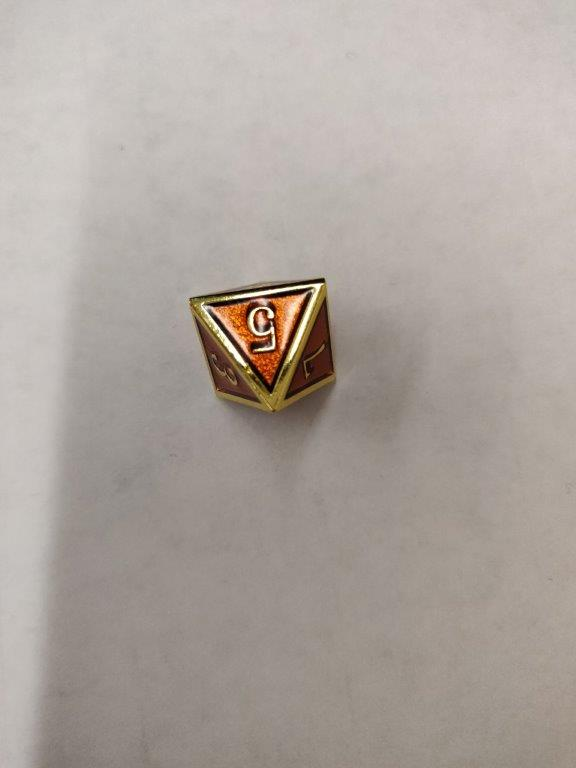d8-5: (182, 266, 341, 418)
